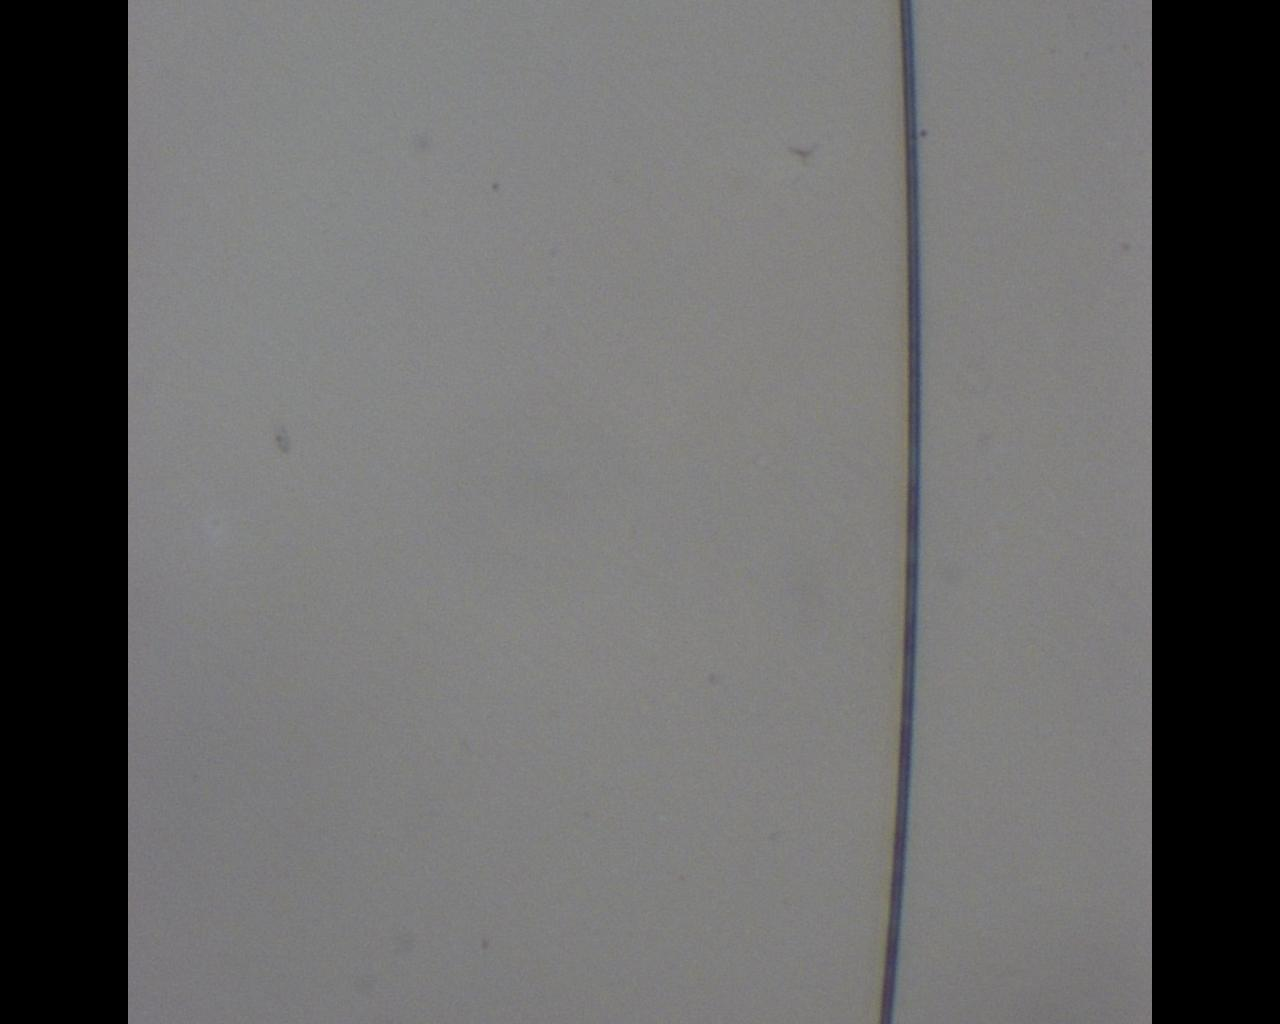fiber: (878, 0, 923, 1024)
